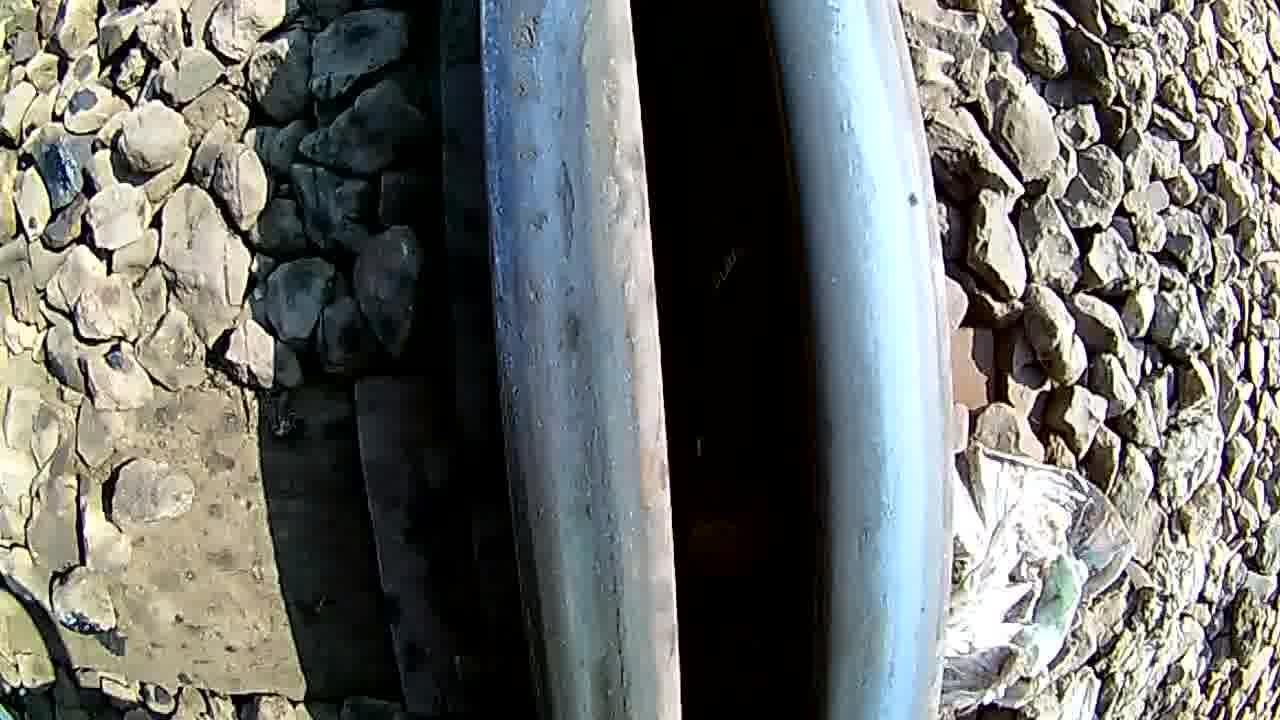crack: (772, 3, 944, 704)
